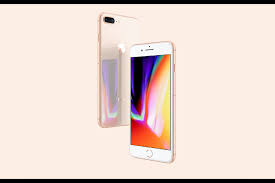iphone: (125, 37, 178, 165)
iphone8: (124, 38, 177, 166)
